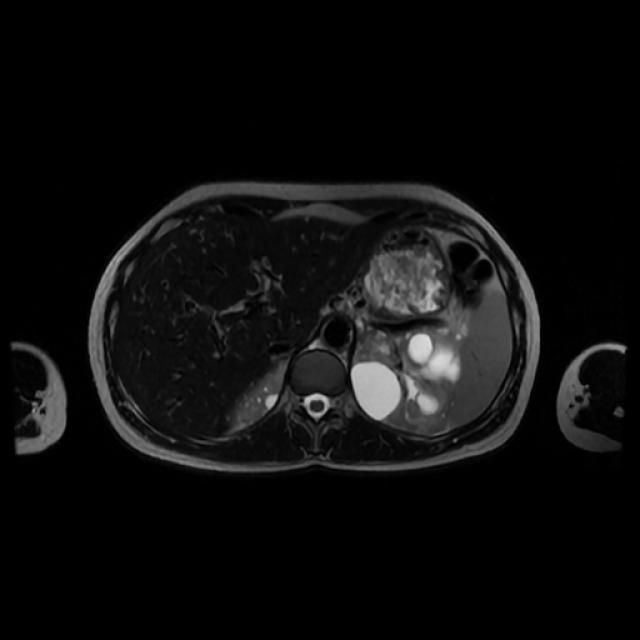sag: (237, 362, 284, 423)
sol: (352, 327, 469, 432)
